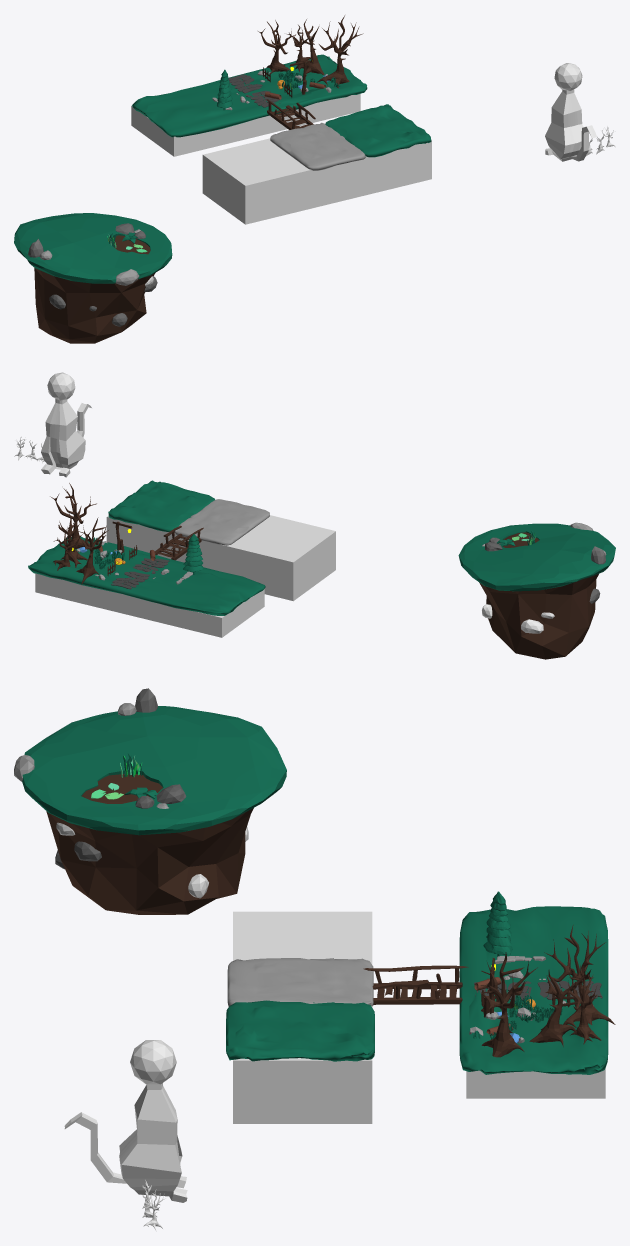
Rendered from Tree_V1.fbx.
The picture shows the model from 3 angles, top to bottom: view 1: azimuth 30°, elevation 25°; view 2: azimuth 150°, elevation 25°; view 3: azimuth 270°, elevation 25°; orthographic projection. The views are drawn at different scales.
Parts seen in each view (by area): view 1: Cube.022, Cylinder.005, Cube.020, Cylinder.006, Cube.011, Cube.023, Cube.040, Cube.018, Cube.010, Bridge.002, Cube.001, Cube.003; view 2: Cube.022, Cylinder.005, Cube.020, Cylinder.006, Cube.011, Cube.040, Cube.023, Cube.018, Bridge.002, Cube.010, Cube.001, object 9; view 3: Cylinder.005, Cube.020, Cube.022, Cylinder.006, Cube.023, Cube.040, Cube.018, Cube.011, Bridge.002, Cube.010, Cube.001, object 9 (+2 smaller).
Part boxes in pixels (x1,y1,x2,y2): Cube.022: (202,138,431,224); Cylinder.005: (14,213,172,283); Cube.020: (132,54,367,137); Cylinder.006: (34,235,155,343); Cube.011: (131,94,360,156); Cube.023: (325,104,431,157); Cube.040: (545,63,596,161); Cube.018: (270,122,365,170); Cube.010: (317,15,363,88); Bridge.002: (267,102,315,129); Cube.001: (258,20,295,73); Cube.003: (295,19,324,74); Cube.022: (106,515,335,601); Cylinder.005: (458,523,615,591); Cube.020: (28,536,265,615); Cylinder.006: (479,532,598,659); Cube.011: (35,573,264,637); Cube.040: (41,372,91,477); Cube.023: (108,480,215,531); Cube.018: (174,499,269,545); Bridge.002: (154,525,201,560); Cube.010: (50,483,96,552); Cube.001: (76,517,108,584); object 9: (183,534,203,574); Cylinder.005: (22,706,286,835); Cube.020: (459,906,608,1074); Cube.022: (233,911,372,1123); Cylinder.006: (46,773,253,914); Cube.023: (226,1000,374,1061); Cube.040: (64,1040,187,1202); Cube.018: (227,958,373,1006); Cube.011: (466,917,605,1098); Bridge.002: (372,968,462,1004); Cube.010: (480,952,537,1057); Cube.001: (544,925,615,1027); object 9: (483,891,512,956).
Bounding box in the file's own units: 18614 × 4664 × 10044.
